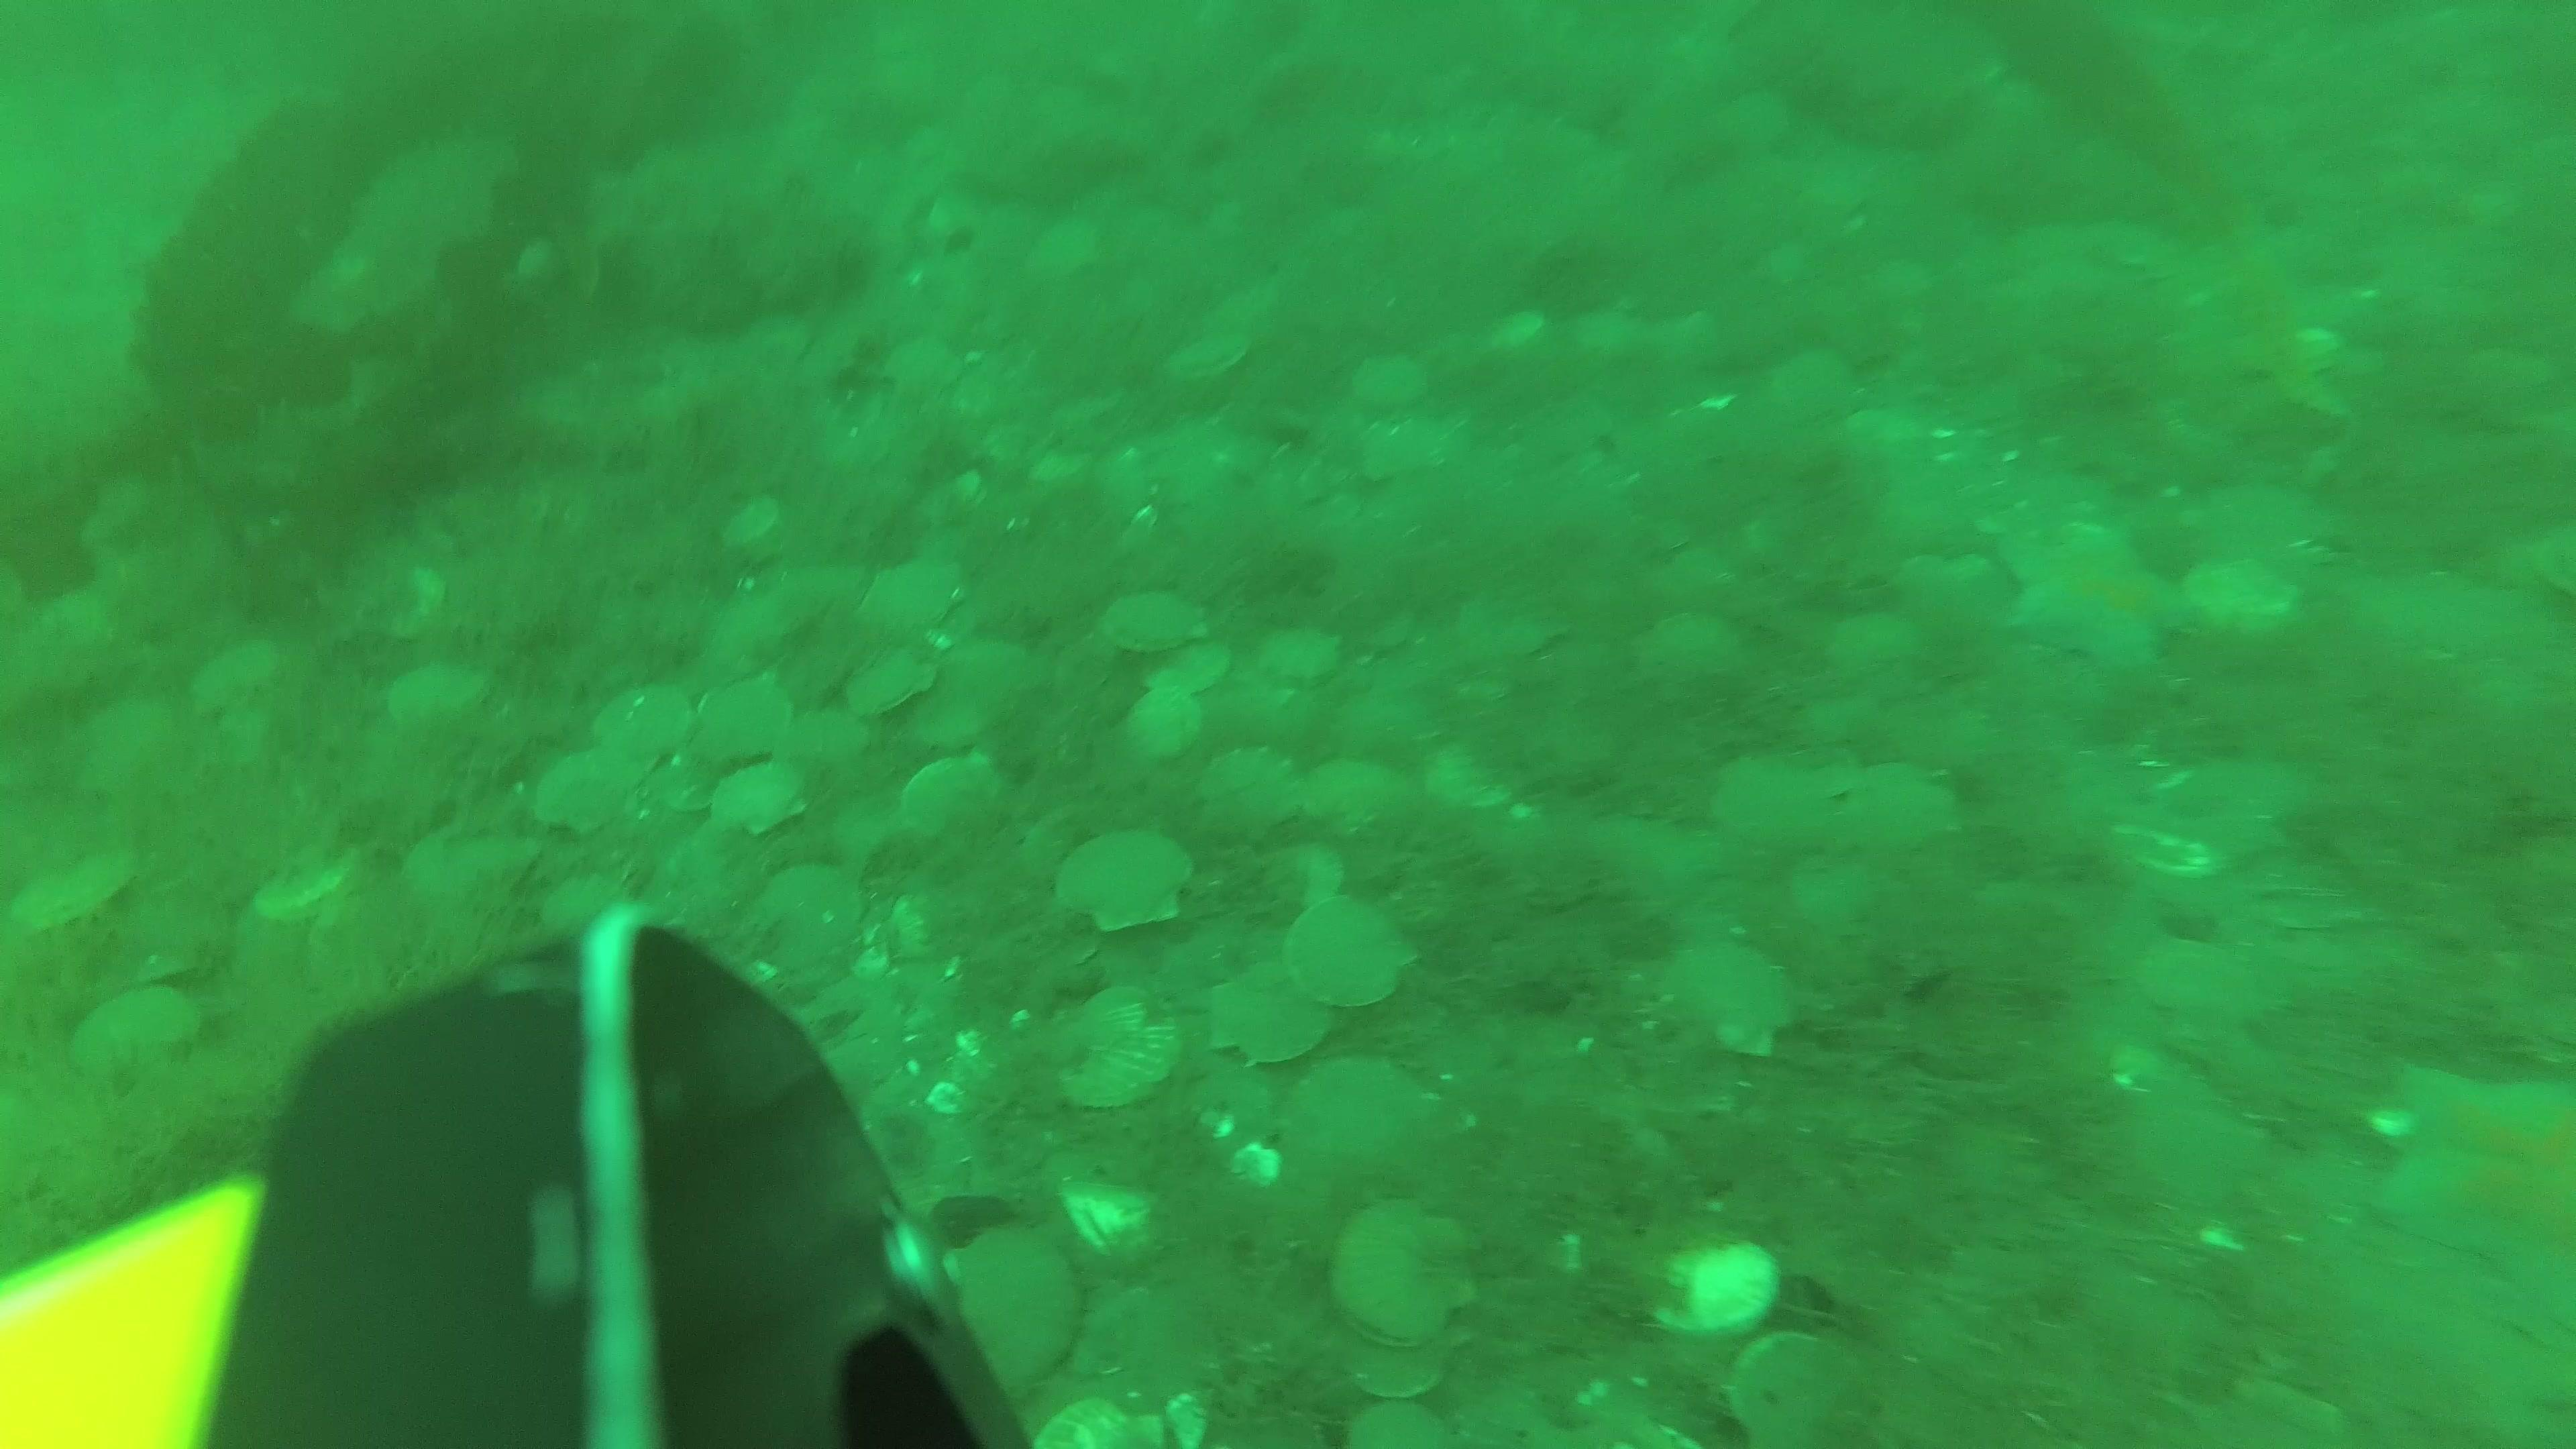scallop: (952, 1215, 1090, 1401), (1334, 1194, 1483, 1350), (1044, 978, 1189, 1113), (1652, 938, 1806, 1058), (1283, 1054, 1440, 1171), (2132, 932, 2268, 1062), (1283, 893, 1415, 1014), (1645, 1233, 1787, 1345), (1056, 826, 1194, 938), (1201, 957, 1334, 1069), (1727, 1329, 1852, 1444), (403, 809, 533, 920), (64, 985, 214, 1079), (1836, 755, 1966, 856), (1706, 755, 1849, 844), (1017, 796, 1169, 879), (248, 839, 379, 931), (14, 847, 145, 939), (747, 865, 869, 961), (1194, 738, 1304, 844), (71, 699, 180, 800), (1585, 812, 1720, 893), (1785, 847, 1900, 938), (1453, 582, 1571, 667), (1297, 748, 1408, 837), (1633, 607, 1744, 694), (897, 752, 1005, 840), (2185, 556, 2302, 635), (862, 554, 964, 642), (1819, 607, 1923, 694), (531, 748, 632, 837), (690, 676, 793, 763), (188, 635, 287, 722), (1428, 738, 1530, 819), (1771, 343, 1865, 428), (384, 658, 490, 732), (1097, 589, 1214, 656), (591, 683, 694, 759), (844, 639, 939, 718), (533, 872, 635, 945), (708, 763, 810, 835), (908, 679, 1016, 745), (1118, 685, 1207, 763), (775, 709, 874, 771), (2118, 821, 2217, 883), (878, 334, 968, 402), (372, 563, 448, 642), (1346, 1350, 1454, 1405), (1341, 1399, 1460, 1449), (1138, 633, 1235, 694), (718, 485, 796, 559), (1343, 350, 1433, 414), (1024, 214, 1108, 283), (1279, 828, 1343, 916), (1260, 625, 1348, 686), (1169, 327, 1256, 386), (1484, 304, 1550, 357)
starfish: (2364, 1049, 2576, 1322), (1994, 506, 2203, 676)
